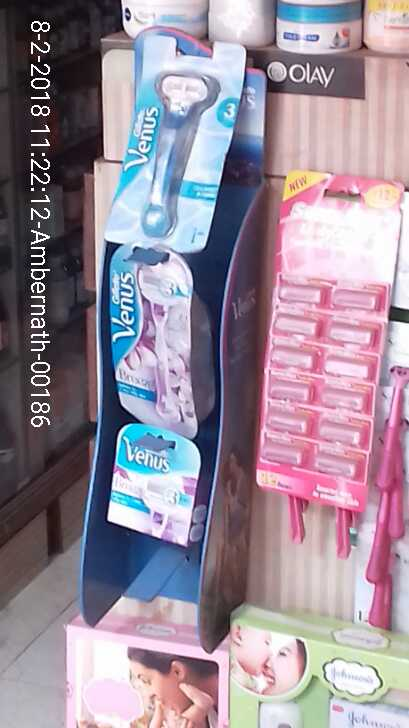venus: (112, 34, 237, 248), (107, 247, 205, 430), (103, 424, 209, 547)
